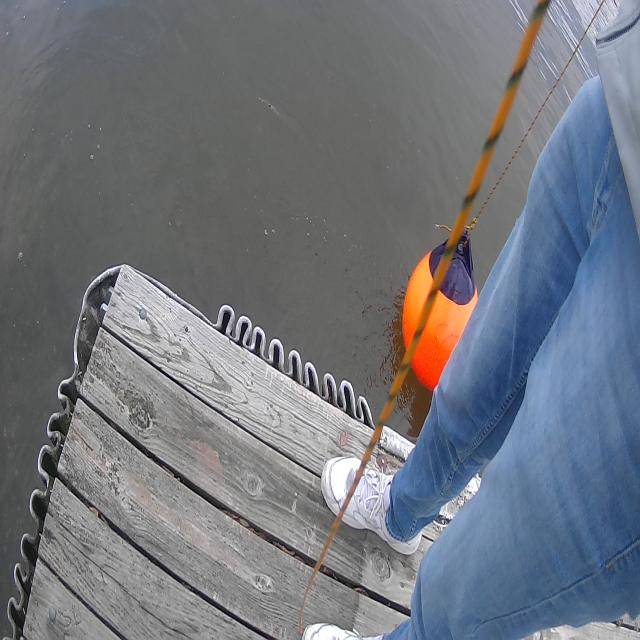Buoy: (396, 229, 493, 412)
